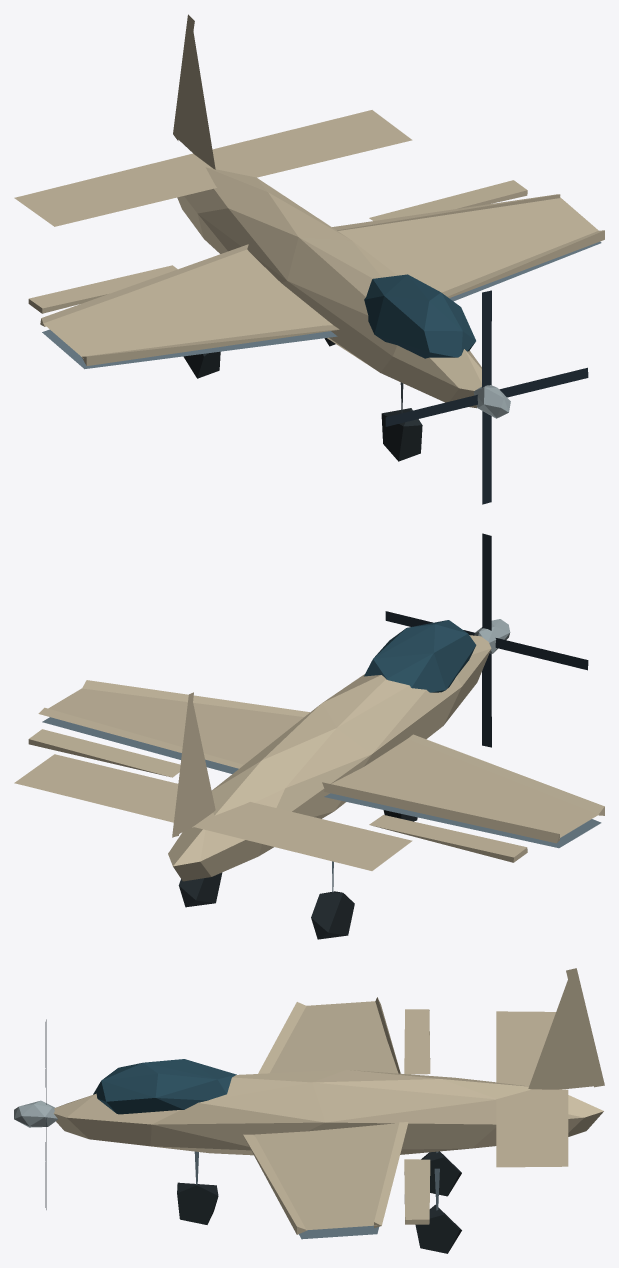
The model's file is aircraft-prop-plane.lod2.glb.
3 views of the same model, one above another, from view 1: azimuth 30°, elevation 25°; view 2: azimuth 150°, elevation 25°; view 3: azimuth 270°, elevation 25° (orthographic). The views are drawn at different scales.
Parts seen in each view (by area): view 1: aircraft-prop-plane__body, aircraft-prop-plane__propeller_0, aircraft-prop-plane__aileron_-1, aircraft-prop-plane__aileron_1, aircraft-prop-plane__gear_0, aircraft-prop-plane__gear_-0p85; view 2: aircraft-prop-plane__body, aircraft-prop-plane__propeller_0, aircraft-prop-plane__aileron_1, aircraft-prop-plane__aileron_-1, aircraft-prop-plane__gear_-0p85, aircraft-prop-plane__gear_0p85; view 3: aircraft-prop-plane__body, aircraft-prop-plane__aileron_1, aircraft-prop-plane__aileron_-1, aircraft-prop-plane__gear_0, aircraft-prop-plane__gear_0p85, aircraft-prop-plane__propeller_0, aircraft-prop-plane__gear_-0p85.
Boxes of the visible parts, bbox=[...] form: aircraft-prop-plane__body: bbox=[14, 14, 604, 408]; aircraft-prop-plane__propeller_0: bbox=[385, 290, 588, 504]; aircraft-prop-plane__aileron_-1: bbox=[28, 265, 177, 313]; aircraft-prop-plane__aileron_1: bbox=[369, 180, 527, 220]; aircraft-prop-plane__gear_0: bbox=[381, 382, 422, 461]; aircraft-prop-plane__gear_-0p85: bbox=[183, 351, 220, 378]; aircraft-prop-plane__body: bbox=[14, 620, 604, 881]; aircraft-prop-plane__propeller_0: bbox=[385, 533, 588, 747]; aircraft-prop-plane__aileron_1: bbox=[28, 729, 180, 777]; aircraft-prop-plane__aileron_-1: bbox=[369, 815, 527, 862]; aircraft-prop-plane__gear_-0p85: bbox=[311, 861, 354, 939]; aircraft-prop-plane__gear_0p85: bbox=[178, 872, 222, 907]; aircraft-prop-plane__body: bbox=[53, 968, 604, 1239]; aircraft-prop-plane__aileron_1: bbox=[404, 1159, 430, 1224]; aircraft-prop-plane__aileron_-1: bbox=[404, 1009, 430, 1074]; aircraft-prop-plane__gear_0: bbox=[177, 1151, 218, 1224]; aircraft-prop-plane__gear_0p85: bbox=[415, 1168, 461, 1253]; aircraft-prop-plane__propeller_0: bbox=[14, 1019, 57, 1209]; aircraft-prop-plane__gear_-0p85: bbox=[421, 1151, 461, 1196].
Bounding box in the file's own units: 6.67 × 3.49 × 7.4.
